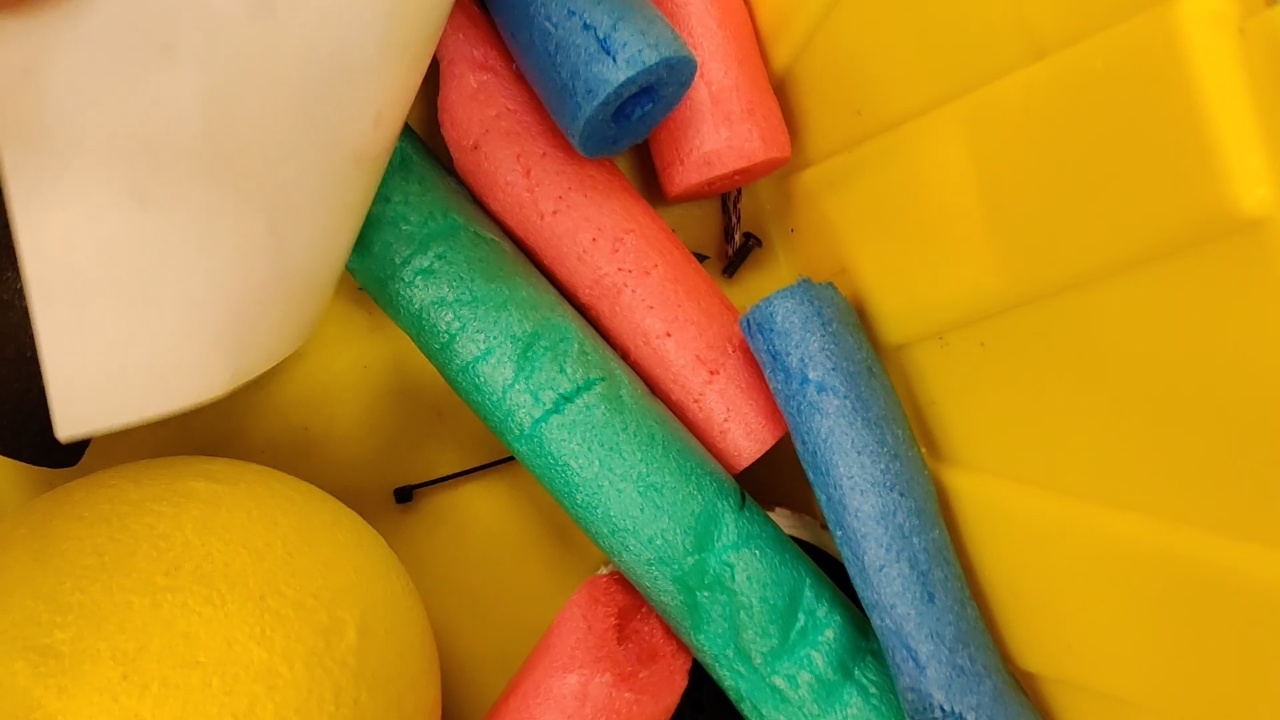Ball: (1, 452, 442, 717)
